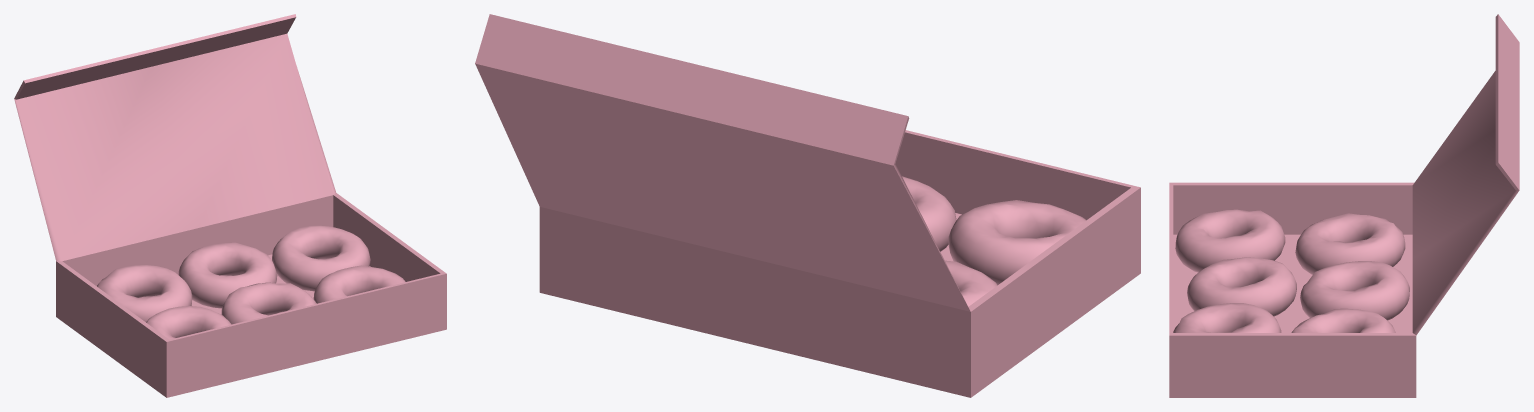
Rendered from DonutBox.fbx.
3 renders of one model, left to right at view 1: azimuth 30°, elevation 25°; view 2: azimuth 150°, elevation 25°; view 3: azimuth 270°, elevation 25°, orthographic. The views are drawn at different scales.
Parts seen in each view (by area): view 1: DonutBox; view 2: DonutBox; view 3: DonutBox.
Boxes of the visible parts, x1,y1,x2,y2 form: DonutBox: [14, 14, 446, 397]; DonutBox: [475, 14, 1140, 397]; DonutBox: [1169, 14, 1519, 397].
Bounding box in the file's own units: 41.46 × 29.54 × 40.14.
